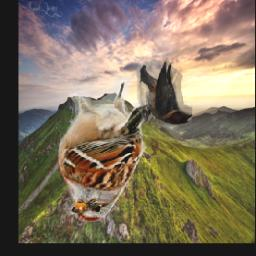Sparrow: (56, 80, 152, 222)
Swallow: (137, 62, 192, 126)
